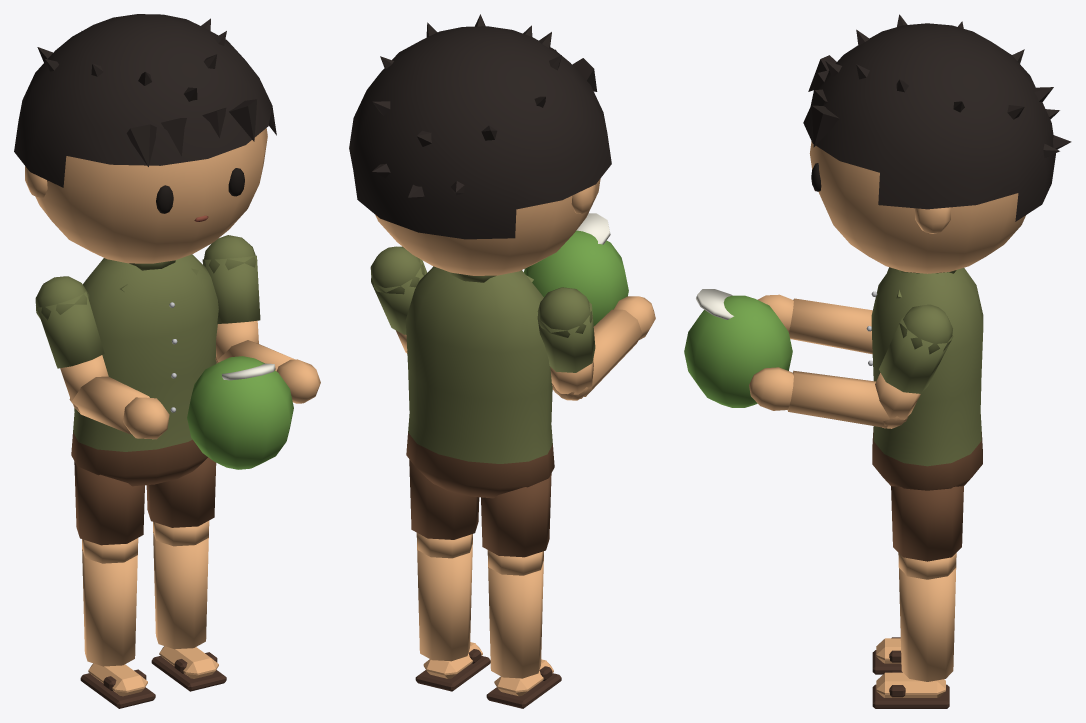
Rendered from south_coconut_boy.glb.
3 renders of one model, left to right at view 1: azimuth 30°, elevation 25°; view 2: azimuth 150°, elevation 25°; view 3: azimuth 270°, elevation 25°, orthographic.
Parts seen in each view (by area): view 1: head, body, prop_coconut, shin_R, shin_L, leg_R, arm_R, arm_L, leg_L, forearm_R, forearm_L; view 2: head, body, shin_L, shin_R, prop_coconut, leg_R, arm_R, leg_L, forearm_R, arm_L; view 3: head, body, prop_coconut, shin_L, leg_L, arm_L, forearm_L, forearm_R, shin_R.
Boxes of the visible parts, x1=… form: head: x1=14, y1=14, x2=276, y2=263; body: x1=71, y1=254, x2=218, y2=486; prop_coconut: x1=187, y1=356, x2=293, y2=469; shin_R: x1=80, y1=549, x2=155, y2=708; shin_L: x1=151, y1=532, x2=226, y2=691; leg_R: x1=74, y1=461, x2=144, y2=563; arm_R: x1=35, y1=276, x2=108, y2=412; arm_L: x1=202, y1=235, x2=260, y2=363; leg_L: x1=146, y1=457, x2=216, y2=546; forearm_R: x1=69, y1=376, x2=169, y2=439; forearm_L: x1=215, y1=340, x2=320, y2=403; head: x1=349, y1=14, x2=611, y2=275; body: x1=405, y1=266, x2=554, y2=498; shin_L: x1=415, y1=544, x2=490, y2=691; shin_R: x1=486, y1=562, x2=561, y2=708; prop_coconut: x1=524, y1=213, x2=628, y2=326; leg_R: x1=481, y1=473, x2=551, y2=575; arm_R: x1=537, y1=287, x2=595, y2=400; leg_L: x1=409, y1=459, x2=479, y2=558; forearm_R: x1=552, y1=296, x2=655, y2=398; arm_L: x1=370, y1=246, x2=427, y2=353; head: x1=803, y1=14, x2=1071, y2=273; body: x1=866, y1=268, x2=983, y2=490; prop_coconut: x1=684, y1=289, x2=792, y2=407; shin_L: x1=872, y1=568, x2=956, y2=708; leg_L: x1=891, y1=486, x2=963, y2=579; arm_L: x1=875, y1=304, x2=953, y2=428; forearm_L: x1=749, y1=367, x2=908, y2=428; forearm_R: x1=757, y1=294, x2=872, y2=354; shin_R: x1=872, y1=637, x2=901, y2=674.
Bounding box in the file's own units: 0.4879 × 1.32 × 0.7133.
